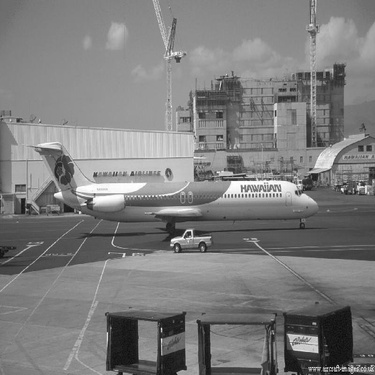airplane: (23, 131, 331, 229)
